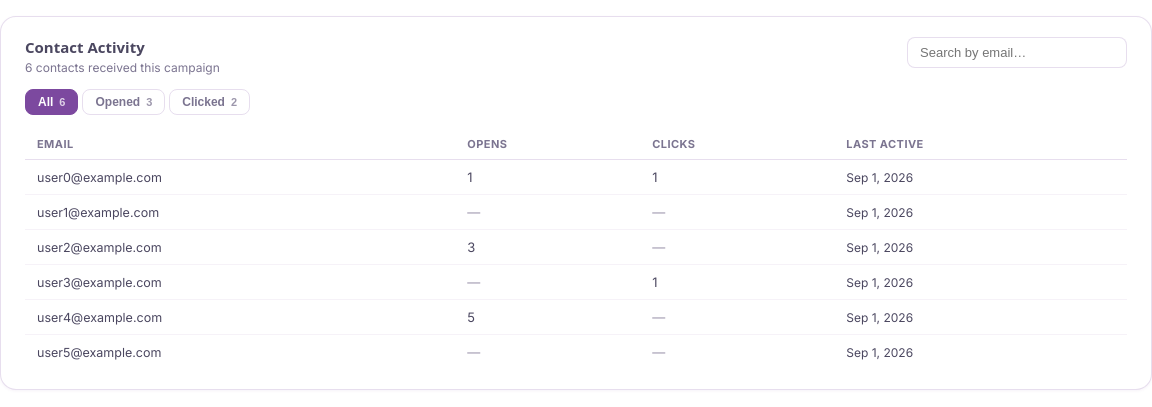
Test: ContactsCard › filters the visible rows to openers when Opened is clicked
What coordinates should you click on to do the following:
click the button "Opened 3"
I would click on:
 (124, 102)
Its box is x1=82 y1=89 x2=165 y2=115.
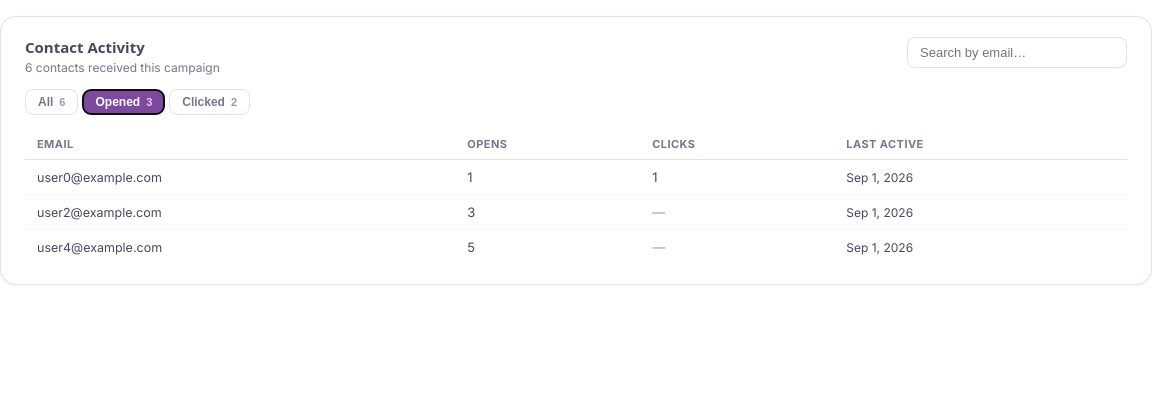
Expected: the text "user0@example.com" is shown, x1=25 y1=160 x2=455 y2=194
Expected: the text "user1@example.com" is gone
